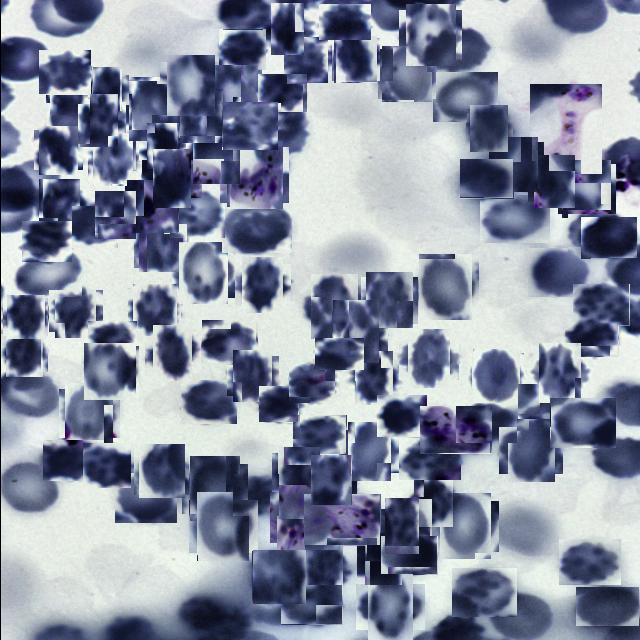red blood cell: (192, 496, 253, 557), (415, 256, 475, 316), (221, 204, 292, 254), (435, 497, 494, 556), (185, 460, 243, 518), (272, 488, 330, 546), (479, 195, 549, 243), (13, 248, 81, 297), (361, 578, 418, 636), (125, 80, 182, 138), (548, 398, 614, 448), (431, 72, 496, 122), (451, 568, 516, 617), (527, 246, 590, 296), (174, 246, 230, 302), (306, 278, 362, 334), (502, 422, 558, 478), (402, 7, 458, 63), (162, 58, 218, 114), (114, 473, 176, 523), (61, 386, 116, 441), (328, 304, 383, 359), (82, 344, 136, 400), (204, 67, 259, 121), (426, 26, 490, 72), (378, 47, 432, 101), (559, 162, 613, 216), (252, 550, 306, 604), (558, 539, 620, 585), (469, 350, 521, 402), (362, 274, 414, 326), (190, 129, 242, 181), (169, 189, 224, 238), (220, 102, 276, 150), (342, 426, 394, 477), (398, 438, 460, 480), (534, 346, 584, 398), (200, 320, 256, 366), (575, 587, 639, 627), (402, 334, 453, 384), (42, 440, 103, 481), (136, 446, 186, 496), (280, 585, 342, 625), (517, 384, 572, 429), (180, 380, 236, 424), (491, 139, 540, 189), (455, 403, 516, 443), (147, 154, 196, 203), (176, 91, 225, 140), (238, 260, 286, 310), (572, 284, 629, 326), (129, 286, 178, 334), (147, 329, 195, 377), (51, 287, 99, 335), (90, 135, 138, 183), (274, 450, 322, 498), (530, 157, 578, 205), (580, 217, 636, 258), (38, 50, 90, 94), (567, 210, 621, 252), (136, 222, 183, 270), (409, 476, 456, 524), (380, 536, 437, 575), (300, 544, 347, 591), (43, 97, 91, 143), (35, 182, 82, 228), (292, 415, 346, 455), (564, 316, 618, 356), (82, 443, 130, 488), (459, 158, 513, 198), (350, 354, 396, 400), (229, 353, 275, 399), (75, 98, 121, 144), (92, 192, 138, 238), (376, 395, 426, 437), (332, 37, 378, 82), (378, 503, 423, 549), (308, 457, 354, 502), (21, 221, 71, 262), (360, 537, 405, 582), (283, 37, 327, 83), (218, 29, 266, 71), (87, 321, 136, 361), (257, 74, 307, 113), (36, 128, 80, 172), (71, 206, 117, 248), (232, 474, 278, 516), (288, 364, 335, 404), (318, 4, 370, 40), (265, 8, 308, 51), (467, 107, 510, 150), (2, 332, 44, 374), (4, 296, 46, 338), (312, 338, 362, 370), (142, 126, 181, 166), (86, 70, 125, 108), (258, 386, 298, 423)
trophozoite: (529, 84, 601, 174), (303, 494, 380, 546), (222, 144, 284, 206), (418, 406, 491, 454), (125, 180, 177, 232)
